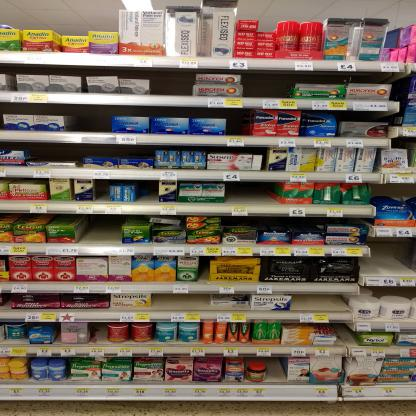Void: (368, 240, 415, 275), (248, 68, 290, 101), (77, 217, 122, 246), (228, 184, 282, 207), (152, 68, 194, 97), (71, 103, 111, 133), (153, 293, 210, 310), (290, 294, 349, 310), (226, 108, 253, 136), (268, 357, 289, 380), (91, 323, 110, 344)
